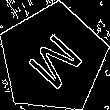M_SE: (19, 25, 87, 93)
